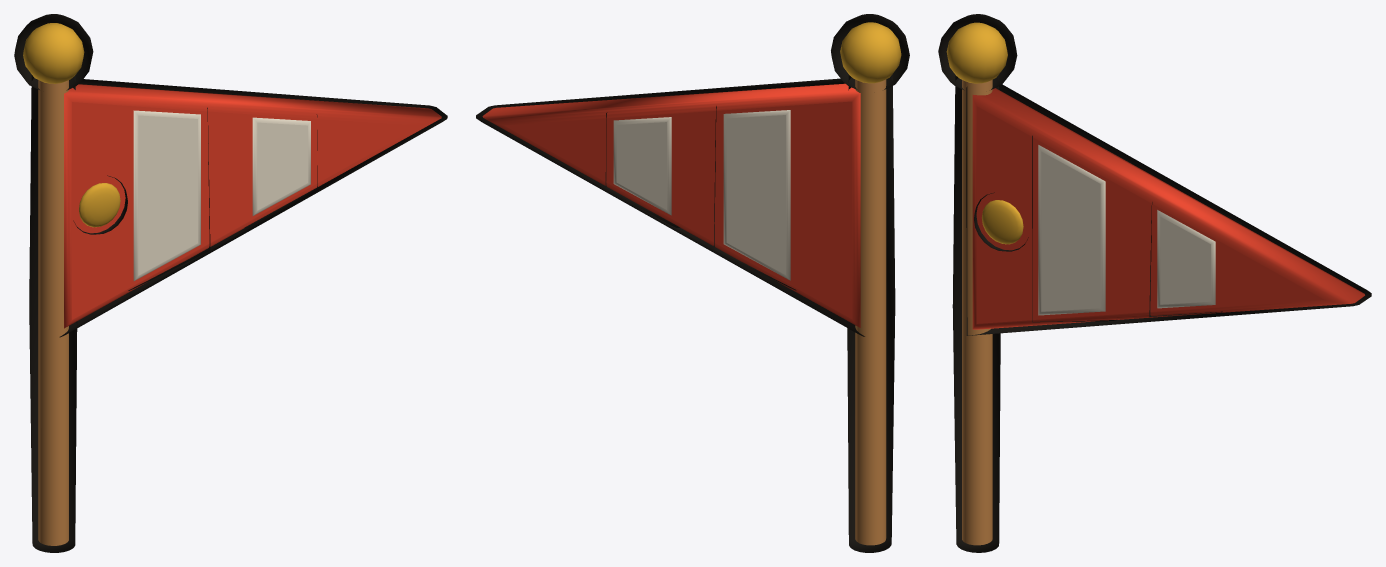
File: pennant.glb
3 views of the same model, side by side, from view 1: azimuth 30°, elevation 25°; view 2: azimuth 150°, elevation 25°; view 3: azimuth 330°, elevation 25° (orthographic).
Visible parts, largest first — view 1: Pennant, Pennant_outline; view 2: Pennant, Pennant_outline; view 3: Pennant, Pennant_outline.
Boxes of the visible parts, x1=… form: Pennant: x1=23, y1=23, x2=441, y2=545; Pennant_outline: x1=14, y1=14, x2=447, y2=552; Pennant: x1=482, y1=22, x2=901, y2=545; Pennant_outline: x1=476, y1=14, x2=909, y2=552; Pennant: x1=946, y1=22, x2=1364, y2=545; Pennant_outline: x1=938, y1=14, x2=1371, y2=552.
Size of the model in its own units: 1.42 by 1.69 by 0.2311.
